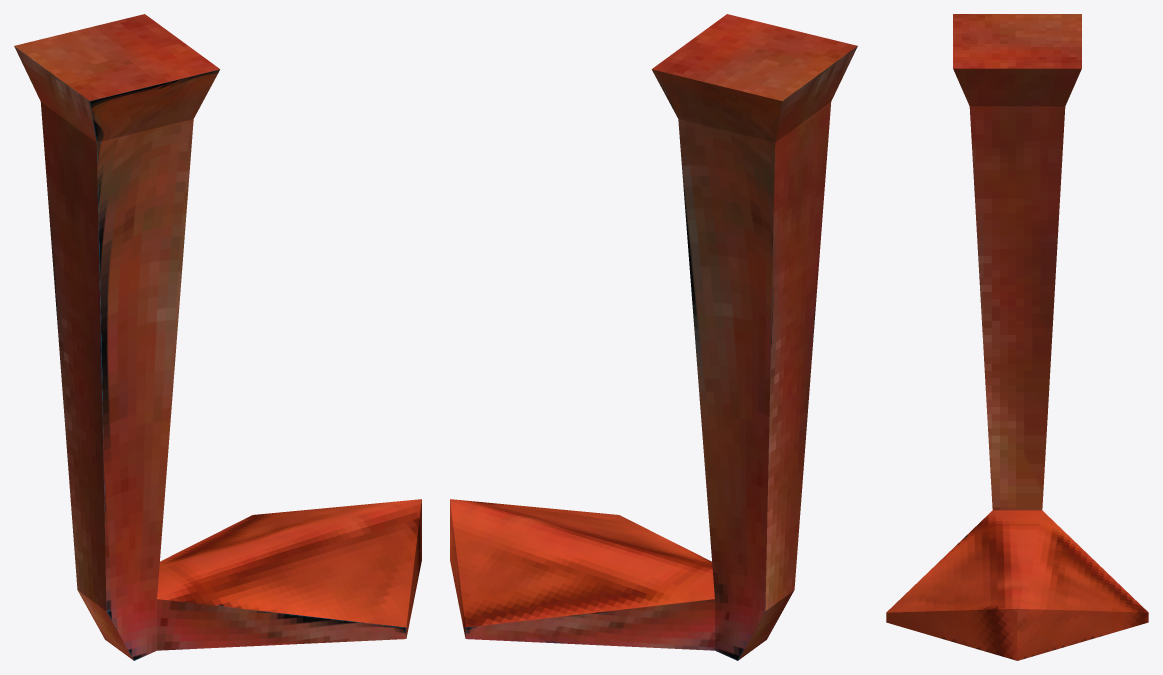
Rendered from g R leg.fbx.
3 renders of one model, left to right at view 1: azimuth 30°, elevation 25°; view 2: azimuth 150°, elevation 25°; view 3: azimuth 270°, elevation 25°, orthographic. The views are drawn at different scales.
Visible parts, largest first — view 1: leg_r; view 2: leg_r; view 3: leg_r.
Boxes of the visible parts, left/top/right/bottom form: leg_r: left=14, top=14, right=421, bottom=660; leg_r: left=450, top=14, right=857, bottom=660; leg_r: left=886, top=14, right=1148, bottom=660.
Bounding box in the file's own units: 313 × 479 × 225.
Materials: 1 (1 with a texture image).
